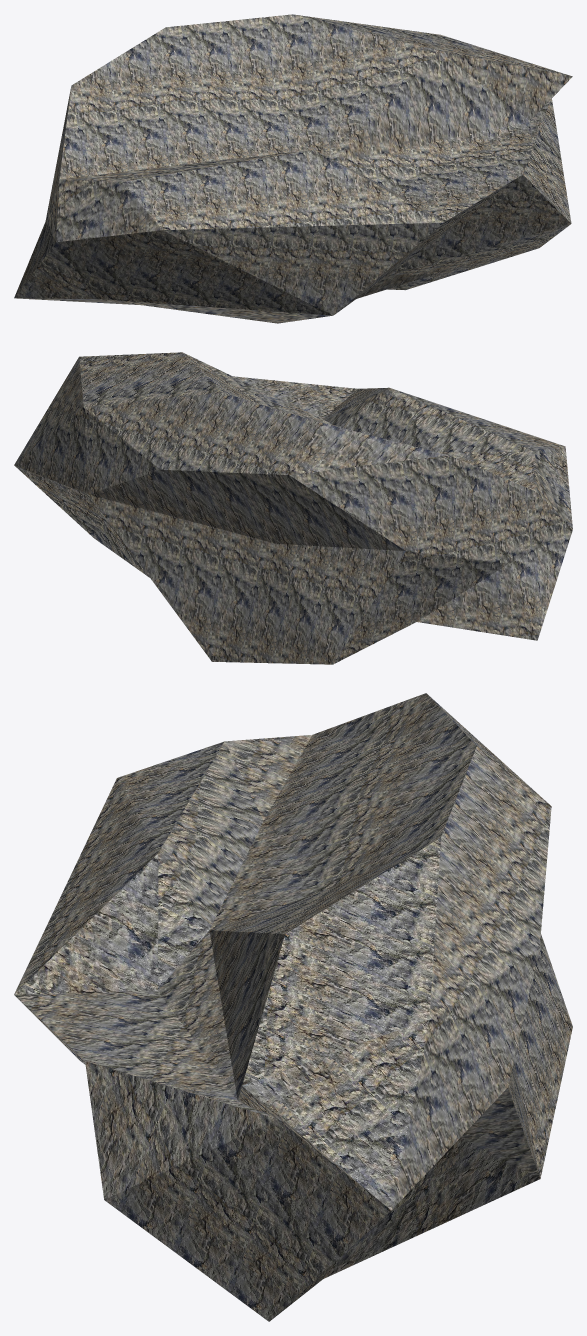
Rendered from Rock1.glb.
The picture shows the model from 3 angles, top to bottom: view 1: azimuth 30°, elevation 25°; view 2: azimuth 150°, elevation 25°; view 3: azimuth 270°, elevation 25°; orthographic projection. The views are drawn at different scales.
Parts seen in each view (by area): view 1: Icosphere; view 2: Icosphere; view 3: Icosphere.
Part boxes in pixels (box(x1,y1,x2,y2)): Icosphere: box(14, 14, 572, 323); Icosphere: box(14, 352, 572, 664); Icosphere: box(14, 693, 572, 1321).
Bounding box in the file's own units: 12.37 × 6.05 × 7.69.
Materials: 2 (1 with a texture image).
